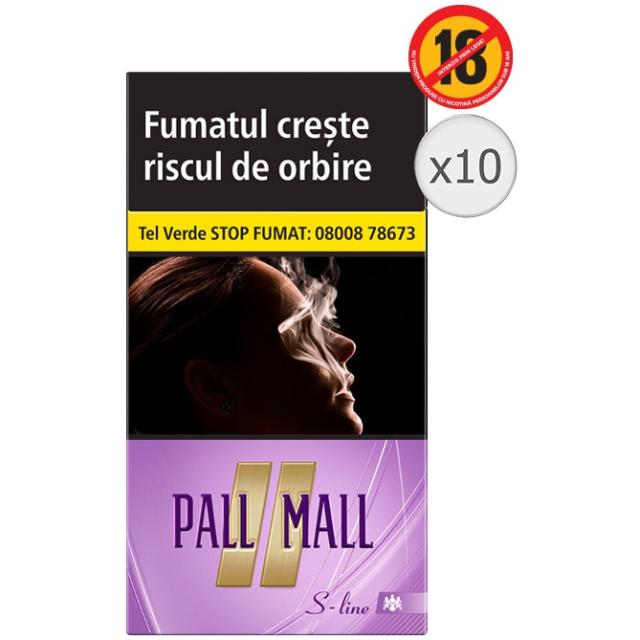pallmall: (119, 72, 433, 640)
